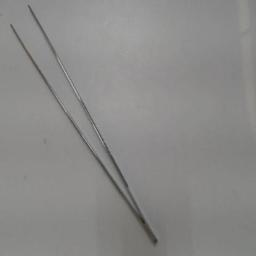DeBakey Dissector: (8, 2, 168, 252)
